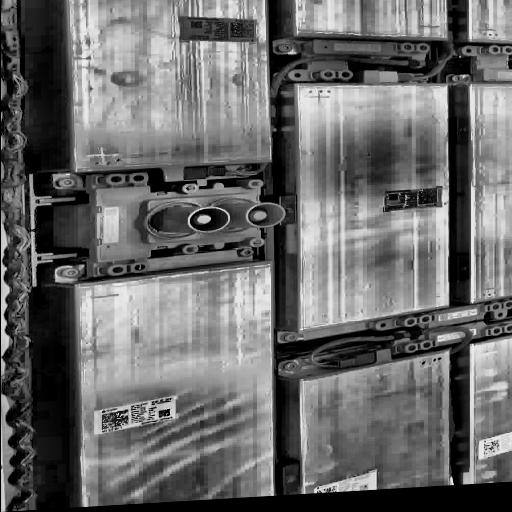battery_module: (74, 260, 276, 507), (293, 83, 450, 333), (63, 0, 271, 173), (297, 348, 449, 494), (469, 84, 512, 303), (469, 335, 512, 484), (293, 0, 446, 39), (468, 0, 512, 42)
busbar: (371, 298, 512, 354), (281, 38, 434, 83), (459, 45, 512, 83)
connector: (87, 172, 286, 279)
low_volt_cable: (182, 36, 459, 178), (304, 325, 477, 370)
nut: (60, 267, 78, 278), (274, 42, 292, 53), (238, 248, 254, 258), (60, 177, 74, 188), (282, 333, 298, 342), (282, 363, 298, 371), (450, 74, 462, 82)
